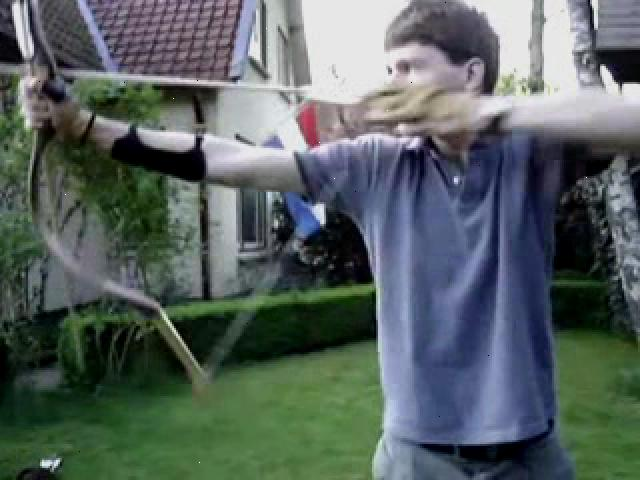P: (18, 8, 632, 476)
